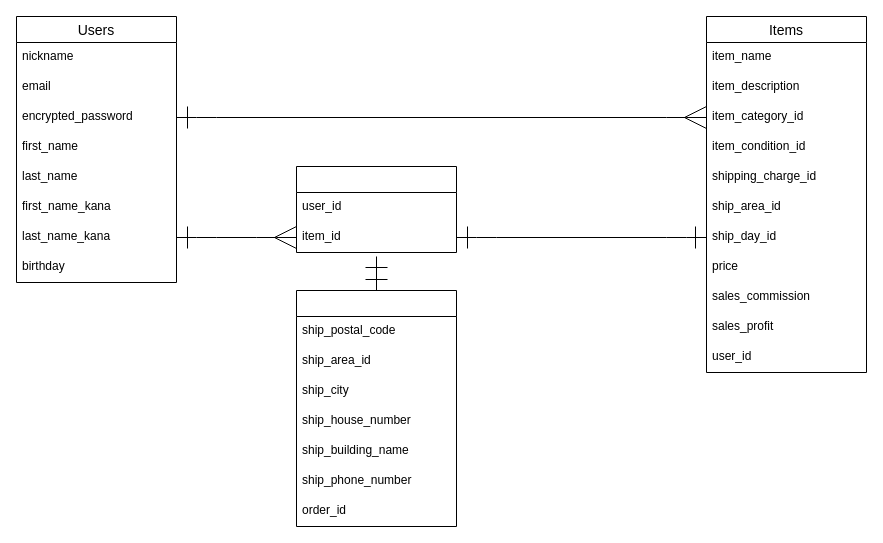
This 883x543 diagram has some shape labels left out. The box of each missing label's shape, as (x1, y1, x2, y2) in pixels:
Orders: (296, 166, 456, 252)
Ship_Addresses: (296, 290, 456, 526)
